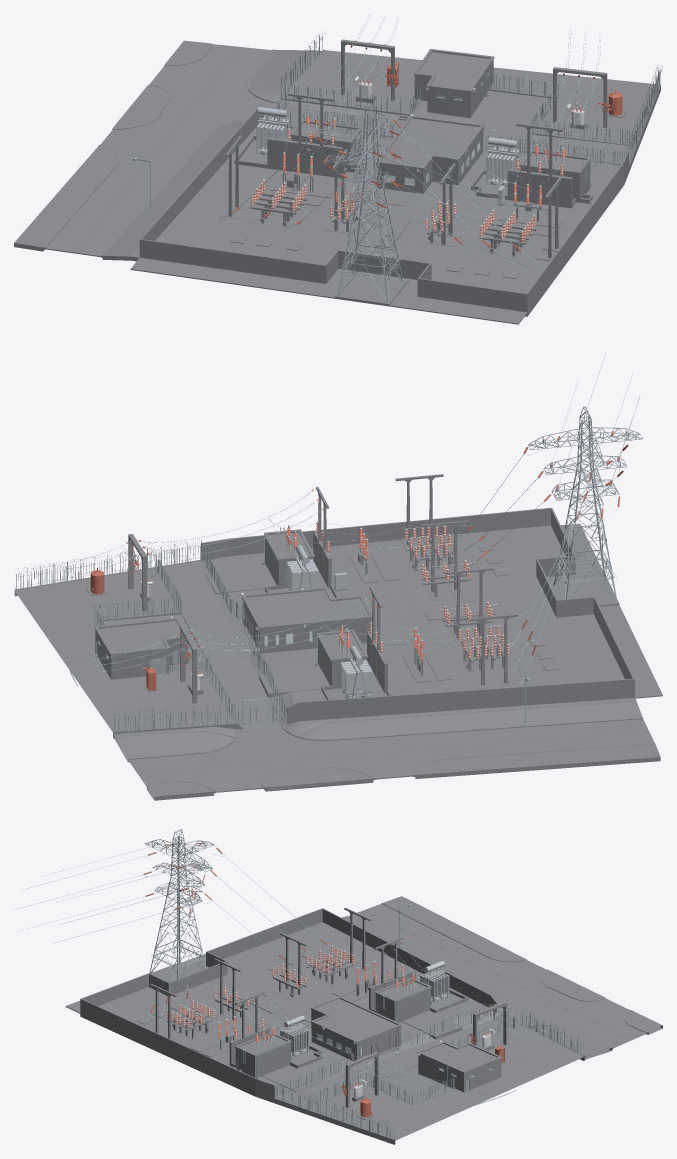
File: substation.glb
3 renders of one model, top to bottom at view 1: azimuth 30°, elevation 25°; view 2: azimuth 150°, elevation 25°; view 3: azimuth 270°, elevation 25°, orthographic. The views are drawn at different scales.
Visible parts, largest first — view 1: site, structure, equipment, insulators, conductors; view 2: site, structure, equipment, insulators, conductors; view 3: site, structure, equipment, insulators, conductors.
Part boxes in pixels (x1,y1,x2,y2): site: (14,33,662,324); structure: (132,36,660,302); equipment: (218,15,615,268); insulators: (234,40,622,251); conductors: (251,44,594,243); site: (14,474,662,800); structure: (15,406,643,731); equipment: (32,353,640,698); insulators: (90,431,628,690); conductors: (123,444,628,721); site: (65,896,662,1144); structure: (144,829,583,1139); equipment: (14,840,557,1115); insulators: (144,843,504,1117); conductors: (155,844,513,1097).
Bounding box in the file's own units: 100 × 29.68 × 111.
